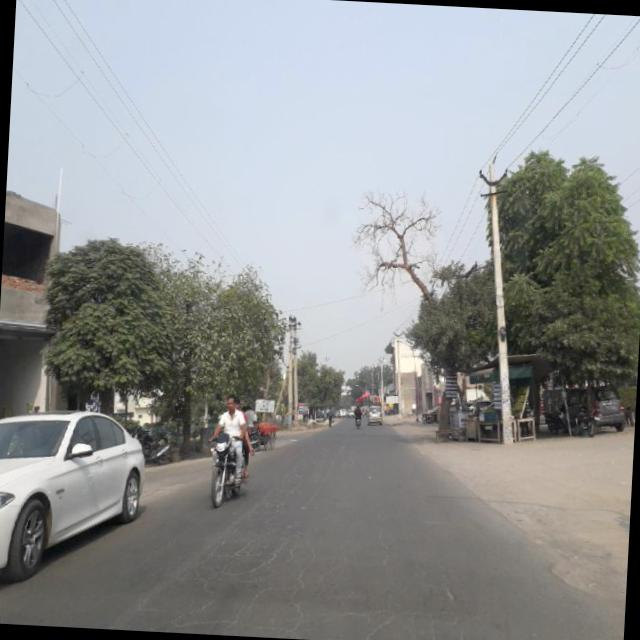crack: (130, 561, 471, 637), (239, 470, 320, 570)
